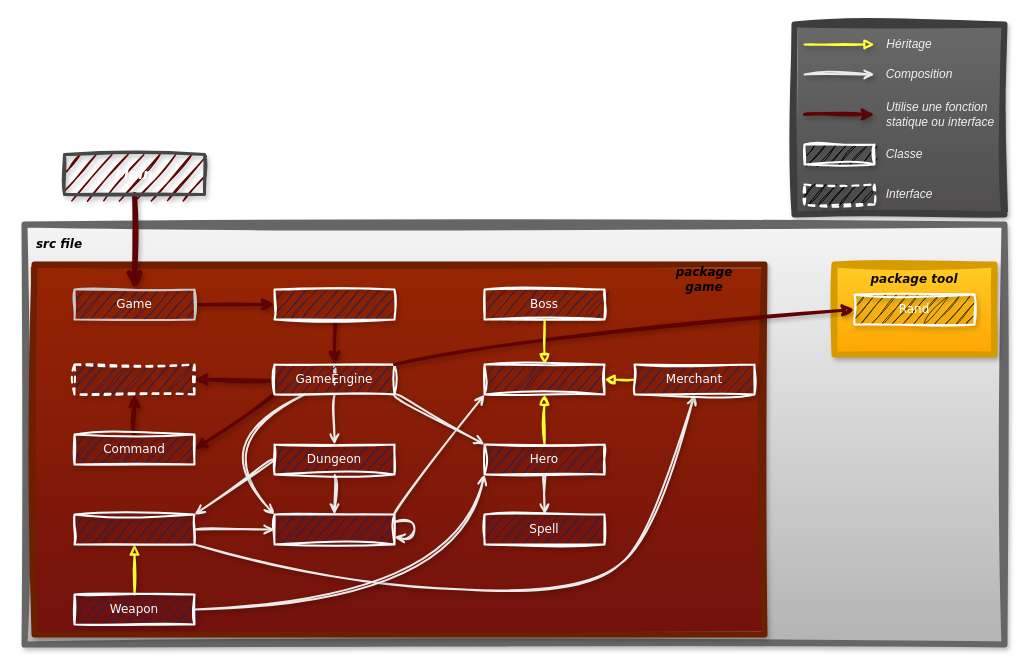
Image size: 1030x671. Some labels were removed from this diagram. Each missing label, with the centre of its shape:
CommandList: point (135, 380)
GameConfig: point (335, 305)
Item: point (135, 530)
Person: point (545, 380)
Room: point (335, 530)
